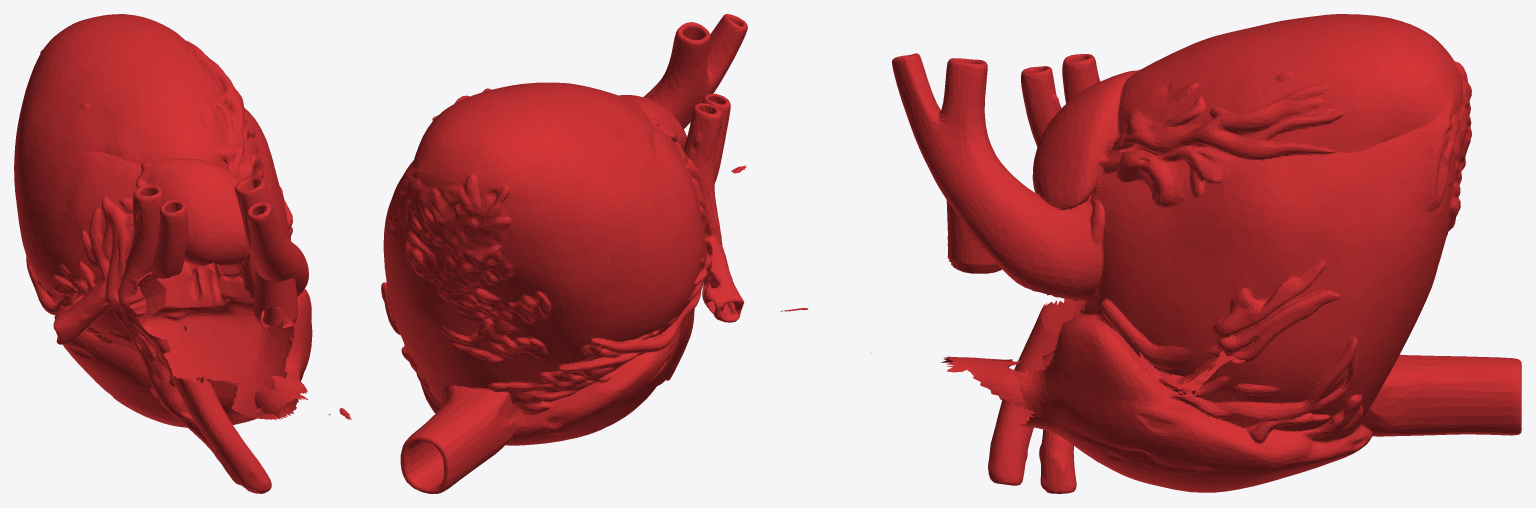
File: heart-nih3d_2.obj
3 views of the same model, side by side, from view 1: azimuth 30°, elevation 25°; view 2: azimuth 150°, elevation 25°; view 3: azimuth 270°, elevation 25° (orthographic). The views are drawn at different scales.
Bounding box in the file's own units: 0.1306 × 0.1692 × 0.2482.
